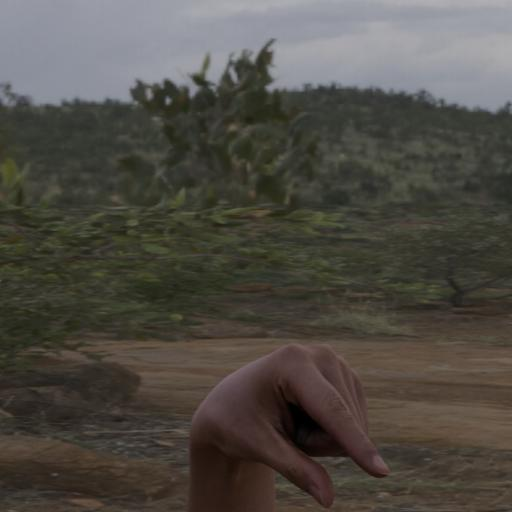Q: (183, 333, 401, 512)
